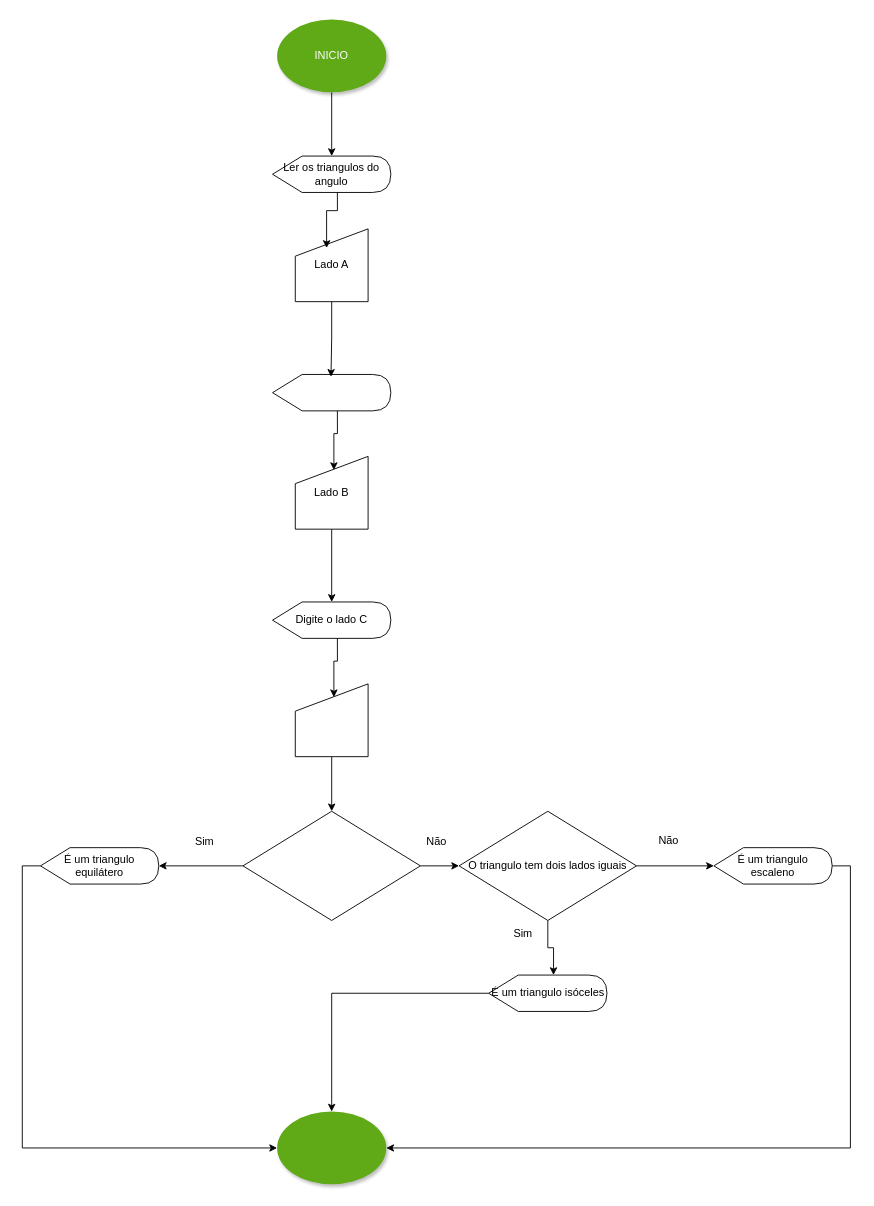
Image size: 874x1206. Some labels were removed from this diagram. Here are the shapes that lost their labels. From the top down, the centre of each, then its label:
the point at 331,392: Digite o lado B
the point at 331,720: Lado C
the point at 331,865: Lado A= Lado B= Lado C?
the point at 332,1148: FIM
